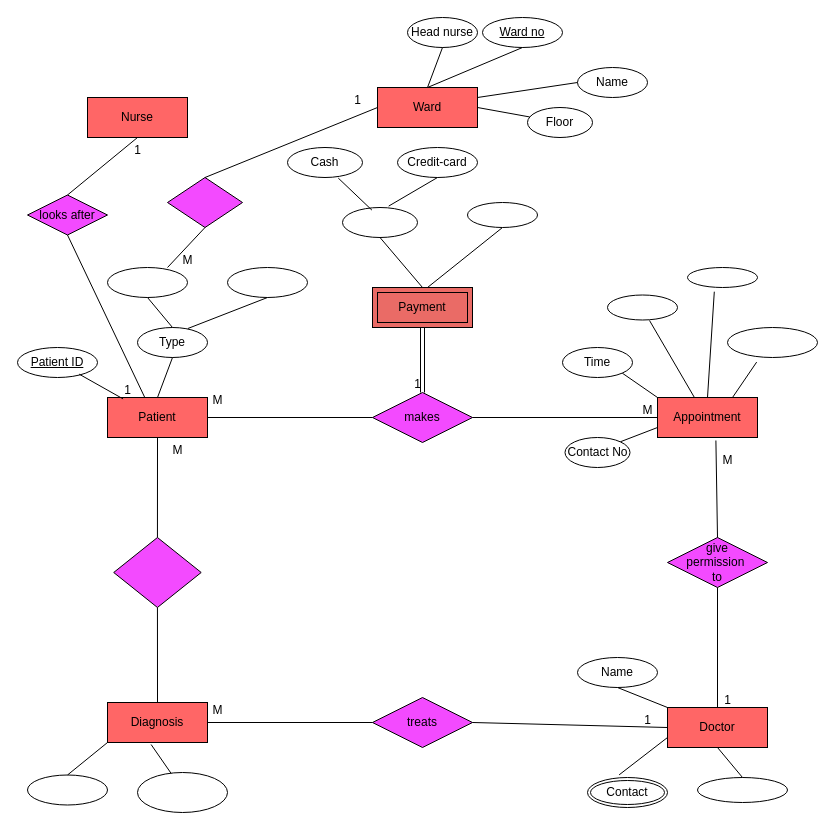
This 835x830 diagram has some shape labels left out. Each missing label, with the centre of its shape:
"Addmitted patients" goes at point 147,282.
"Appointment ID" goes at point 772,342.
"Assign" goes at point 204,202.
"Date" goes at point 642,307.
"diagnosed by" goes at point 157,572.
"Diagnosis ID" goes at point 67,789.
"Doc ID" goes at point 742,789.
"Last application date" goes at point 182,792.
"Location" goes at point 722,277.
"Mode" goes at point 380,222.
"Outpatients" goes at point 267,282.
"Payment ID" goes at point 502,215.
